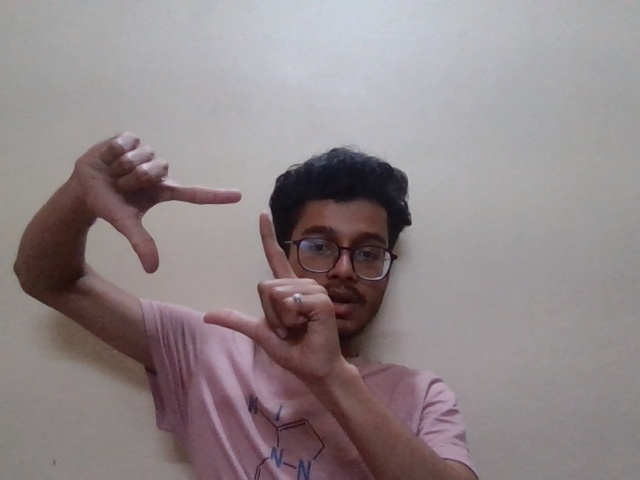video: (53, 129, 356, 372)
